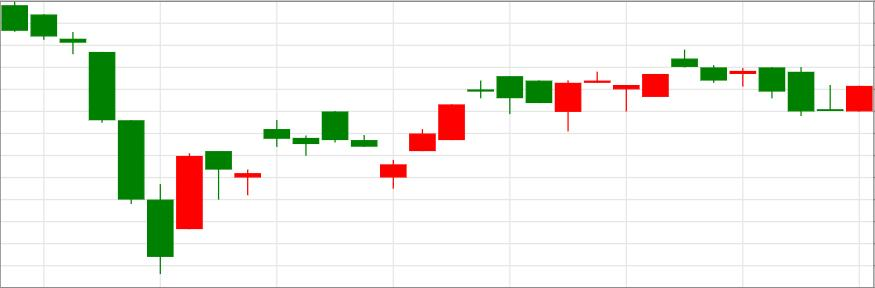three_black_crows_fall: (2, 1, 174, 275)
